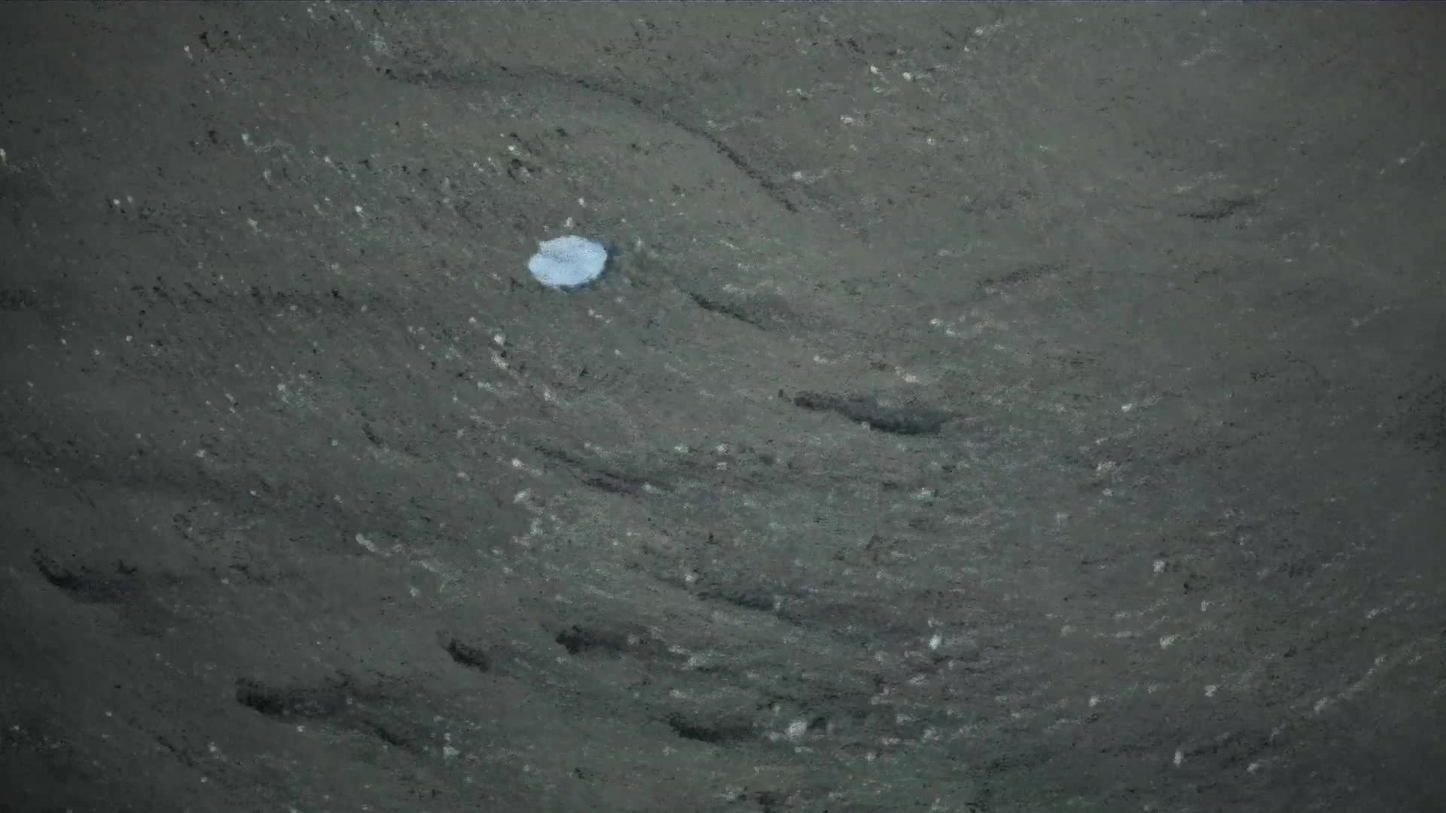Target: (522, 228, 617, 292)
